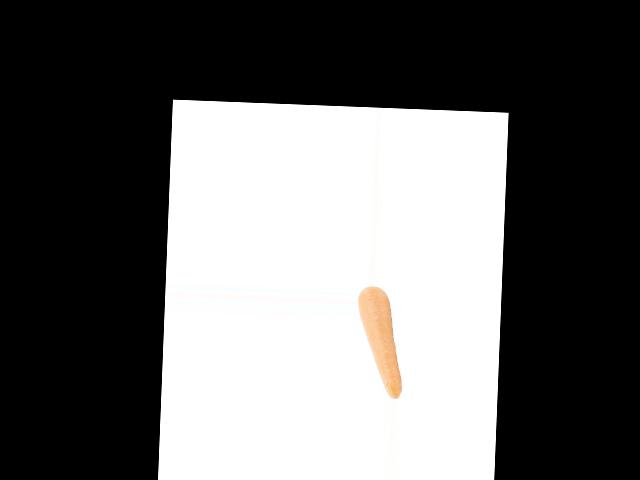carrot: (354, 304, 409, 401)
